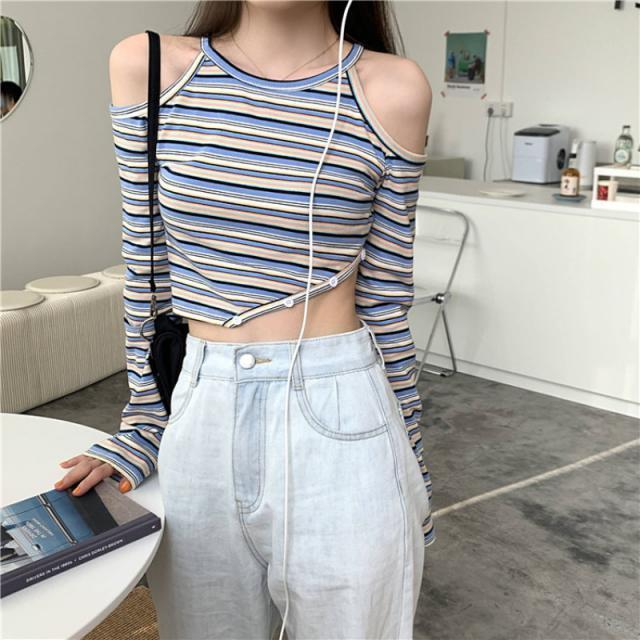Shirt: (72, 25, 444, 552)
